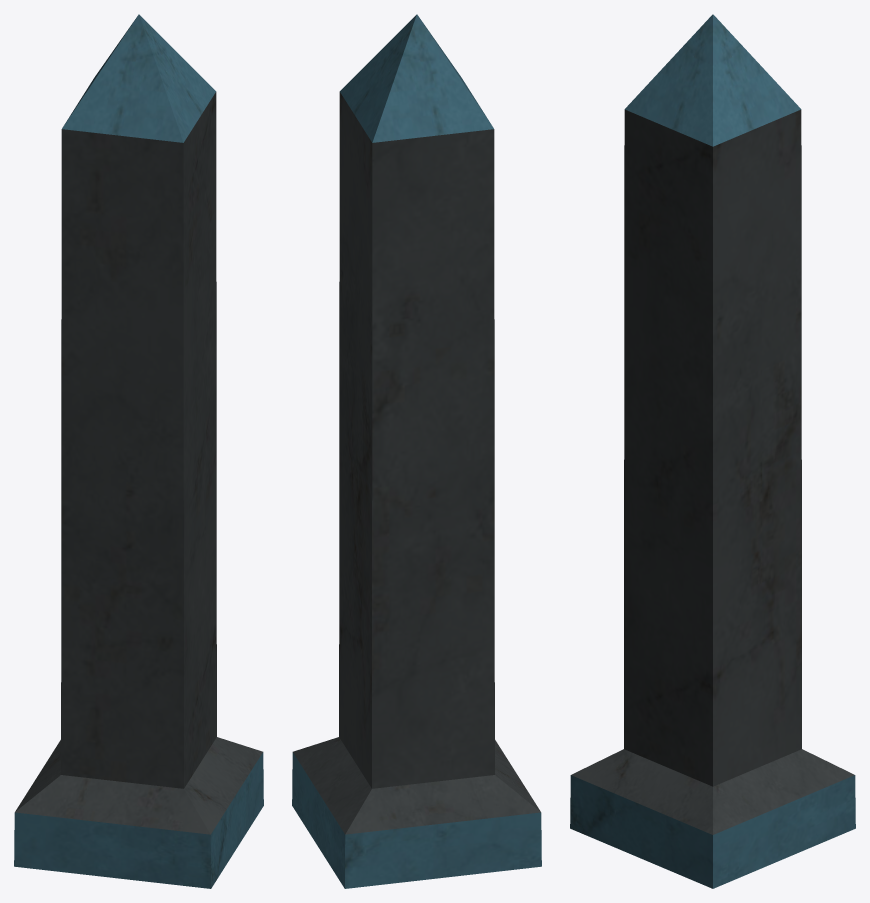
The model's file is obeliskBlue.fbx.
3 renders of one model, left to right at view 1: azimuth 30°, elevation 25°; view 2: azimuth 150°, elevation 25°; view 3: azimuth 270°, elevation 25°, orthographic.
Visible parts, largest first — view 1: obeliskBlue; view 2: obeliskBlue; view 3: obeliskBlue.
Part boxes in pixels (x1,y1,x2,y2): obeliskBlue: (14,14,263,888); obeliskBlue: (292,14,541,888); obeliskBlue: (570,14,855,888).
Size of the model in its own units: 2.28 by 7.18 by 2.28.
1 material, 1 textured.
